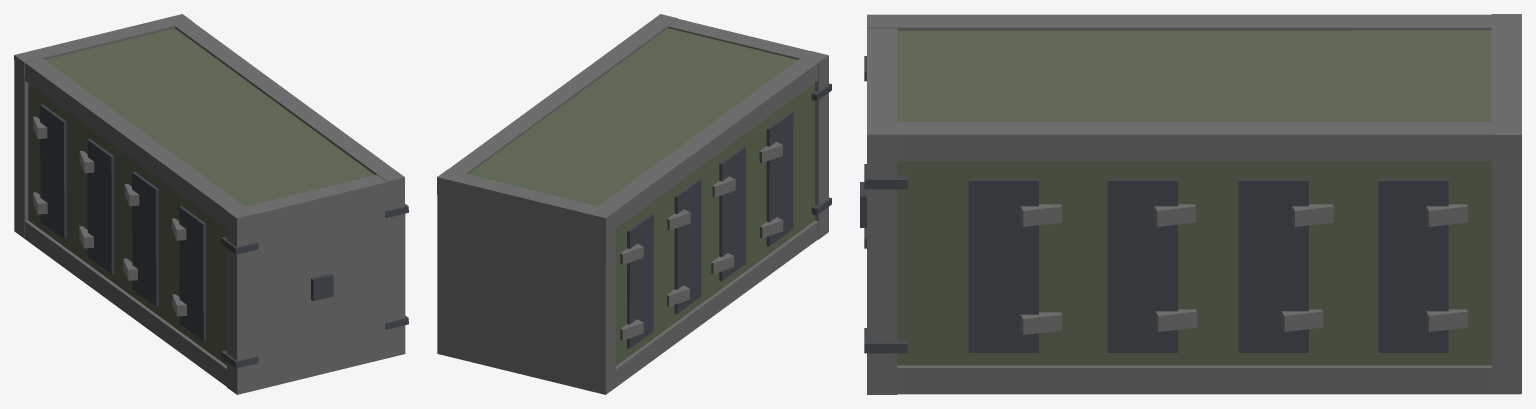
The model's file is cargo crate.fbx.
The picture shows the model from 3 angles, left to right: view 1: azimuth 30°, elevation 25°; view 2: azimuth 150°, elevation 25°; view 3: azimuth 270°, elevation 25°; orthographic projection. The views are drawn at different scales.
Parts seen in each view (by area): view 1: PM3D_Cube3D1_255; view 2: PM3D_Cube3D1_255; view 3: PM3D_Cube3D1_255.
Part boxes in pixels (bbox=[...]): PM3D_Cube3D1_255: bbox=[14, 14, 408, 394]; PM3D_Cube3D1_255: bbox=[437, 14, 831, 394]; PM3D_Cube3D1_255: bbox=[860, 14, 1521, 394].
Bounding box in the file's own units: 314 × 294 × 677.
